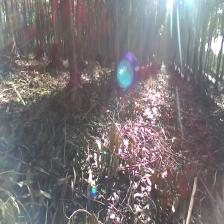trunk: (62, 3, 82, 108), (113, 0, 120, 59)
